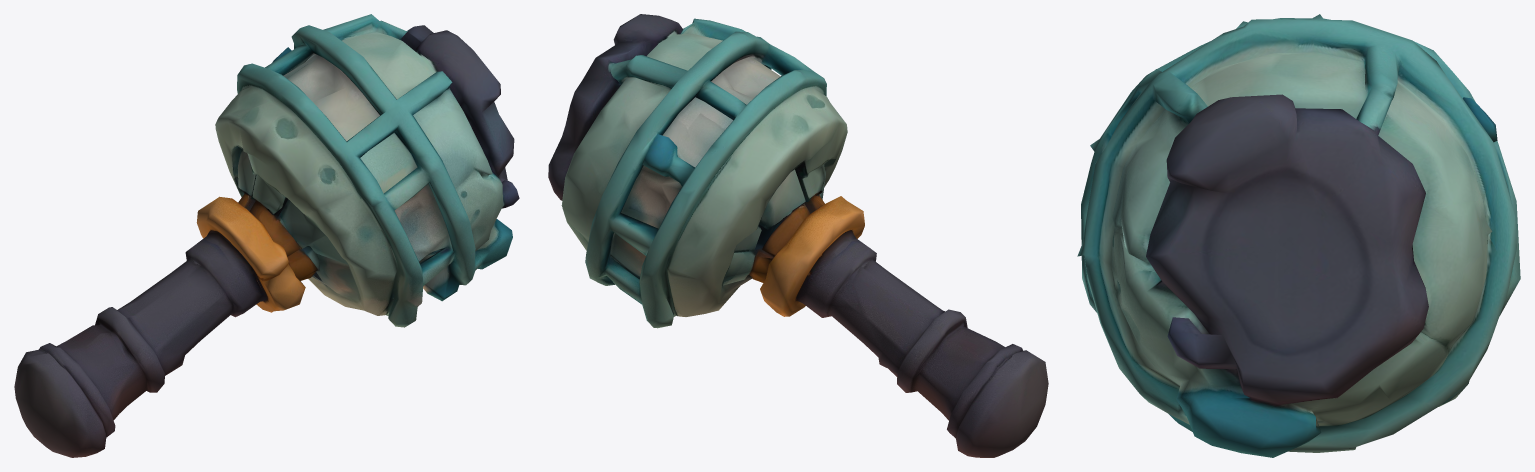
File: weapon_ghost_scepter_tertiary_1500_raw.glb
The picture shows the model from 3 angles, left to right: view 1: azimuth 30°, elevation 25°; view 2: azimuth 150°, elevation 25°; view 3: azimuth 270°, elevation 25°; orthographic projection. The views are drawn at different scales.
Visible parts, largest first — view 1: tripo_node_f47c8e74-9f1b-4c6d-bac6-e55020c07db7; view 2: tripo_node_f47c8e74-9f1b-4c6d-bac6-e55020c07db7; view 3: tripo_node_f47c8e74-9f1b-4c6d-bac6-e55020c07db7.
Boxes of the visible parts, box(x1,y1,x2,y2) form: tripo_node_f47c8e74-9f1b-4c6d-bac6-e55020c07db7: box(14, 14, 519, 457); tripo_node_f47c8e74-9f1b-4c6d-bac6-e55020c07db7: box(548, 14, 1048, 457); tripo_node_f47c8e74-9f1b-4c6d-bac6-e55020c07db7: box(1077, 14, 1520, 457).
Bounding box in the file's own units: 0.9789 × 0.696 × 0.5503.
Materials: 1 (1 with a texture image).
